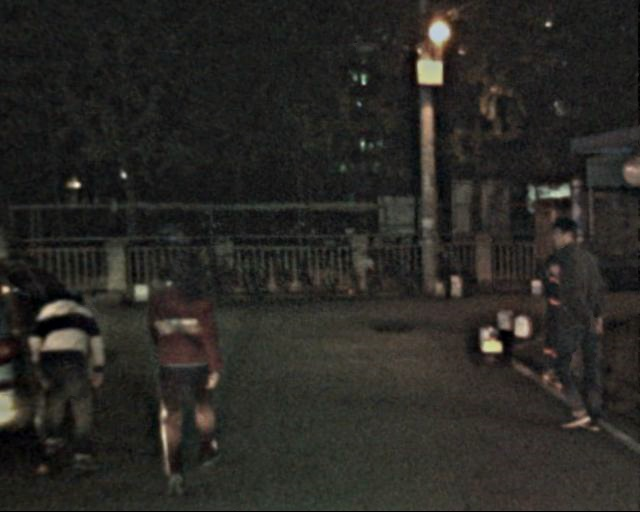person: (143, 247, 232, 481), (537, 213, 613, 440), (33, 263, 116, 469)
